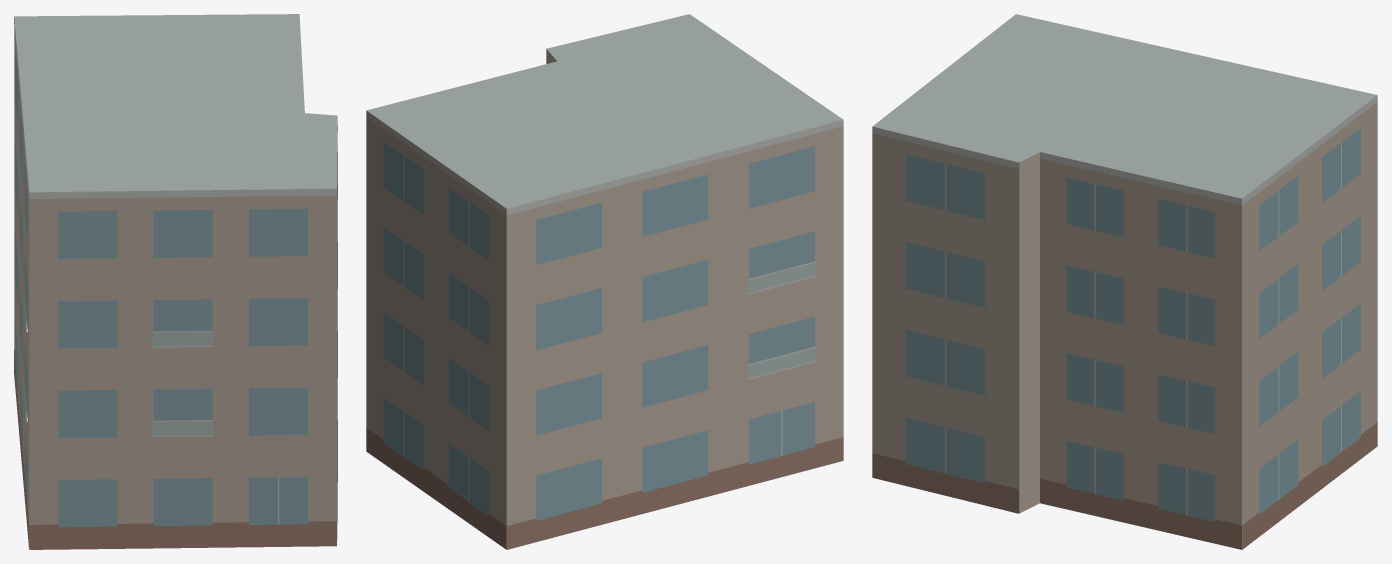
File: survey-upis-32846235.glb
The picture shows the model from 3 angles, left to right: view 1: azimuth 30°, elevation 25°; view 2: azimuth 150°, elevation 25°; view 3: azimuth 270°, elevation 25°; orthographic projection. The views are drawn at different scales.
Parts seen in each view (by area): view 1: survey-upis-32846235.tmp; view 2: survey-upis-32846235.tmp; view 3: survey-upis-32846235.tmp.
Part boxes in pixels (bbox=[...]): survey-upis-32846235.tmp: bbox=[14, 14, 337, 549]; survey-upis-32846235.tmp: bbox=[366, 14, 843, 549]; survey-upis-32846235.tmp: bbox=[872, 14, 1377, 549].
Bounding box in the file's own units: 14.45 × 12.8 × 16.7.
